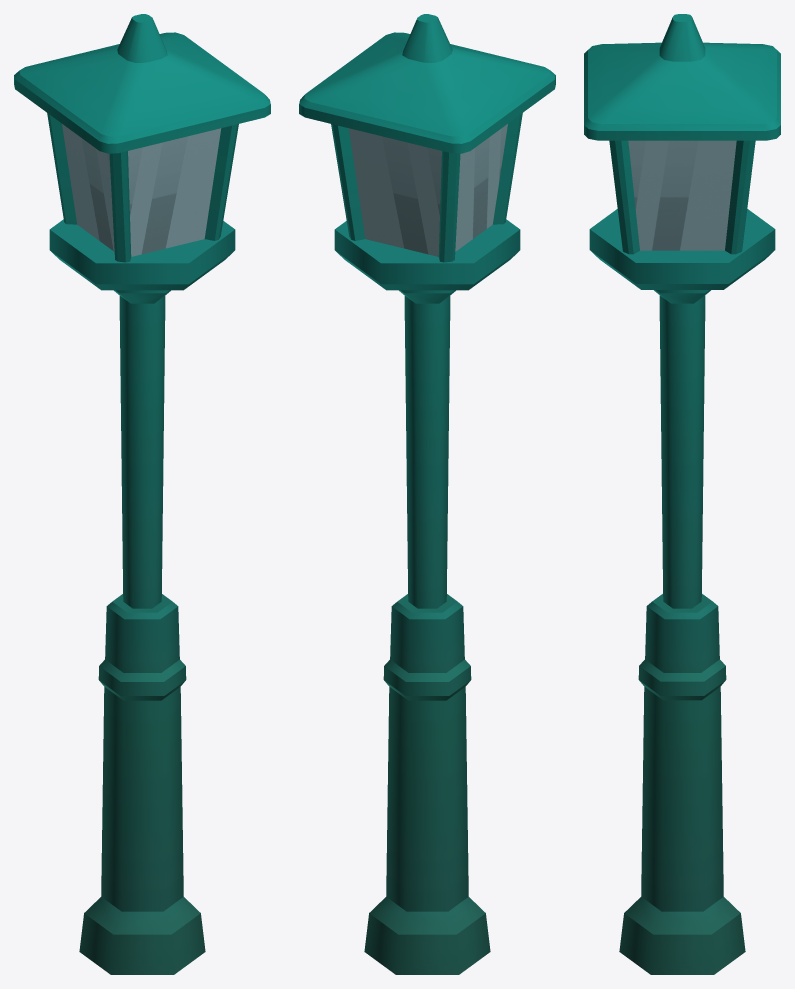
The model's file is StreetLamp_3_A.fbx.
The picture shows the model from 3 angles, left to right: view 1: azimuth 30°, elevation 25°; view 2: azimuth 150°, elevation 25°; view 3: azimuth 270°, elevation 25°; orthographic projection.
Parts seen in each view (by area): view 1: StreetLamp_3_A; view 2: StreetLamp_3_A; view 3: StreetLamp_3_A.
Boxes of the visible parts, x1,y1,x2,y2 form: StreetLamp_3_A: (14,14,270,974); StreetLamp_3_A: (299,14,555,974); StreetLamp_3_A: (584,14,780,974).
Size of the model in its own units: 74.08 by 388 by 74.08.
